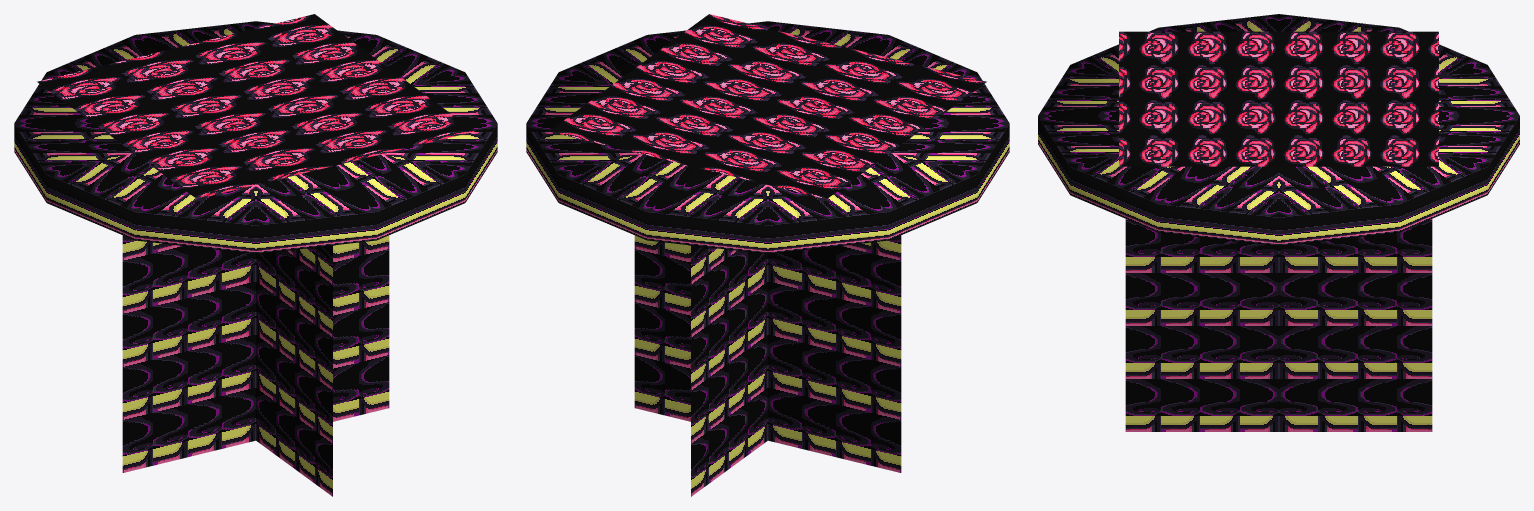
3 views of the same model, side by side, from view 1: azimuth 30°, elevation 25°; view 2: azimuth 150°, elevation 25°; view 3: azimuth 270°, elevation 25° (orthographic).
Parts seen in each view (by area): view 1: 3686kg_ko_ta0; view 2: 3686kg_ko_ta0; view 3: 3686kg_ko_ta0.
Boxes of the visible parts, <box> form: 3686kg_ko_ta0: <box>14,14,497,496</box>; 3686kg_ko_ta0: <box>526,14,1009,496</box>; 3686kg_ko_ta0: <box>1038,14,1519,431</box>.
Bounding box in the file's own units: 0.9839 × 0.75 × 0.9839.
2 materials, 2 textured.
